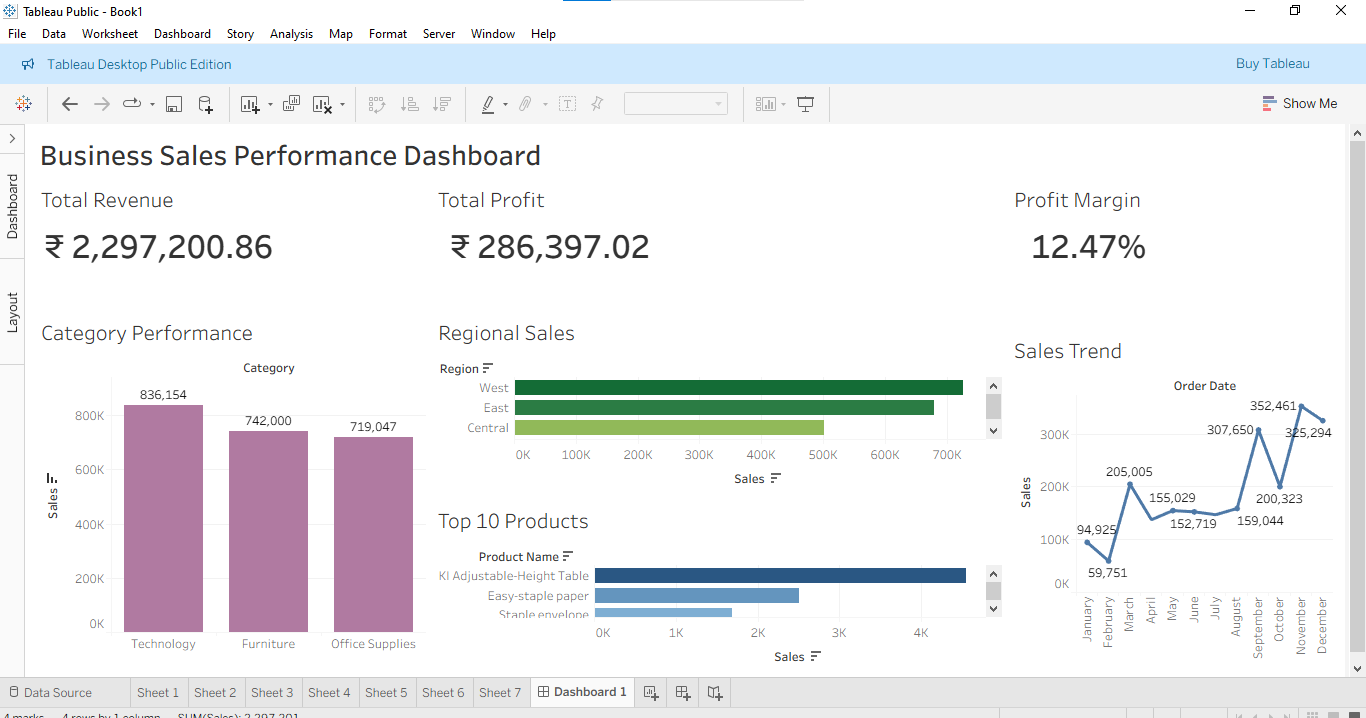

The page's visual inventory and layout, read from the dashboard file:
{"tool":"tableau","page":{"name":"Dashboard 1","canvas":[1000,1000],"units":"permille","ordinal":0},"visuals":[{"type":"title","box":[6.1,14.3,987.9,80.4]},{"type":"worksheet","title":"Sheet 4","mark":"Automatic","box":[6.1,94.7,300.7,237.5]},{"type":"worksheet","title":"Sheet 5","mark":"Automatic","box":[306.7,94.7,436.4,237.8]},{"type":"worksheet","title":"Sheet 6","mark":"Automatic","box":[743.2,94.7,250.8,269.8]},{"type":"worksheet","title":"Sheet 3","mark":"Automatic","rows":["Sales"],"cols":["Category"],"box":[6.1,332.1,300.7,653.6]},{"type":"worksheet","title":"Sheet 7","mark":"Automatic","rows":["Region"],"cols":["Sales"],"box":[306.7,332.5,436.4,335.5]},{"type":"worksheet","title":"Sheet 1","mark":"Automatic","rows":["Sales"],"cols":["Order Date"],"box":[743.2,364.4,250.8,621.3]},{"type":"worksheet","title":"Sheet 2","mark":"Automatic","rows":["Product Name"],"cols":["Sales"],"box":[306.7,668,436.4,317.7]}]}

Visuals, with their boxes on the dashboard's canvas, which has no fixed pixel size, in thousandths of its width and height (x1, y1, x2, y2). These are canvas units, not pixel positions in the 1366x718 screenshot, which may show the page scaled, cropped or inside an application window:
title: bbox=(6, 14, 994, 95)
"Sheet 4" worksheet: bbox=(6, 95, 307, 332)
"Sheet 5" worksheet: bbox=(307, 95, 743, 332)
"Sheet 6" worksheet: bbox=(743, 95, 994, 364)
"Sheet 3" worksheet: bbox=(6, 332, 307, 986)
"Sheet 7" worksheet: bbox=(307, 332, 743, 668)
"Sheet 1" worksheet: bbox=(743, 364, 994, 986)
"Sheet 2" worksheet: bbox=(307, 668, 743, 986)
